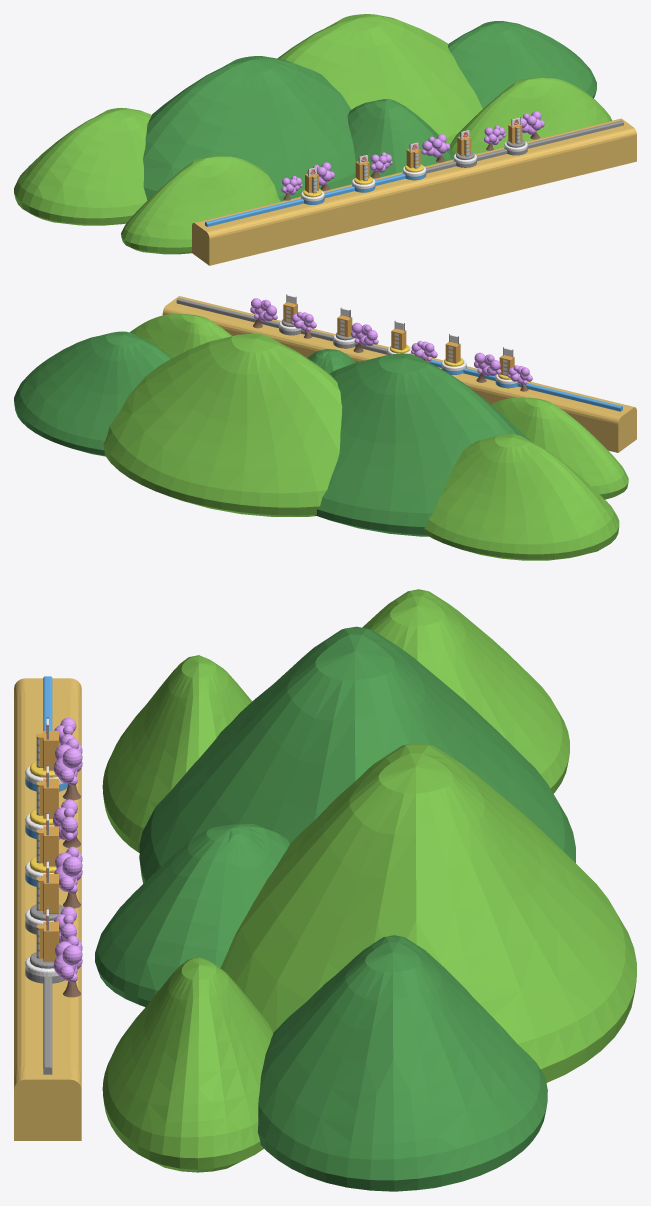
The model's file is stage_basic.fbx.
3 renders of one model, top to bottom at view 1: azimuth 30°, elevation 25°; view 2: azimuth 150°, elevation 25°; view 3: azimuth 270°, elevation 25°, orthographic. The views are drawn at different scales.
Visible parts, largest first — view 1: 개체_26, 개체_174, 개체_25, 개체_29, 개체_27, 개체_30, 개체_28, 개체_31, 개체_36, 개체_37, 개체_16, 개체_12; view 2: 개체_25, 개체_26, 개체_29, 개체_30, 개체_174, 개체_27, 개체_28, 개체_31, 개체_36, 개체_37, 개체_12, 개체_16 (+2 smaller); view 3: 개체_25, 개체_30, 개체_26, 개체_28, 개체_31, 개체_174, 개체_29, 개체_27, 개체_20, 개체_12, 개체_16, 개체_37.
Part boxes in pixels (x1=…): 개체_26: x1=143, y1=56, x2=355, y2=201; 개체_174: x1=192, y1=118, x2=636, y2=265; 개체_25: x1=277, y1=14, x2=482, y2=144; 개체_29: x1=14, y1=107, x2=151, y2=225; 개체_27: x1=121, y1=156, x2=280, y2=254; 개체_30: x1=448, y1=21, x2=596, y2=108; 개체_28: x1=450, y1=77, x2=611, y2=154; 개체_31: x1=347, y1=99, x2=454, y2=178; 개체_36: x1=205, y1=198, x2=303, y2=226; 개체_37: x1=527, y1=120, x2=623, y2=148; 개체_16: x1=421, y1=134, x2=450, y2=157; 개체_12: x1=521, y1=111, x2=544, y2=134; 개체_25: x1=103, y1=333, x2=342, y2=516; 개체_26: x1=315, y1=353, x2=531, y2=536; 개체_29: x1=424, y1=434, x2=619, y2=560; 개체_30: x1=14, y1=331, x2=172, y2=456; 개체_174: x1=162, y1=296, x2=636, y2=452; 개체_27: x1=491, y1=397, x2=628, y2=499; 개체_28: x1=130, y1=314, x2=232, y2=357; 개체_31: x1=307, y1=349, x2=355, y2=373; 개체_36: x1=517, y1=383, x2=622, y2=411; 개체_37: x1=176, y1=298, x2=279, y2=328; 개체_12: x1=250, y1=298, x2=277, y2=321; 개체_16: x1=351, y1=322, x2=378, y2=346; 개체_25: x1=220, y1=742, x2=636, y2=1082; 개체_30: x1=257, y1=935, x2=547, y2=1191; 개체_26: x1=139, y1=626, x2=575, y2=883; 개체_28: x1=102, y1=957, x2=273, y2=1172; 개체_31: x1=95, y1=823, x2=289, y2=1007; 개체_174: x1=14, y1=678, x2=81, y2=1140; 개체_29: x1=362, y1=589, x2=569, y2=793; 개체_27: x1=102, y1=655, x2=251, y2=852; 개체_20: x1=53, y1=738, x2=82, y2=785; 개체_12: x1=53, y1=935, x2=82, y2=982; 개체_16: x1=54, y1=846, x2=82, y2=893; 개체_37: x1=43, y1=976, x2=52, y2=1074.
Size of the model in its own units: 11039 by 2567 by 5519.
